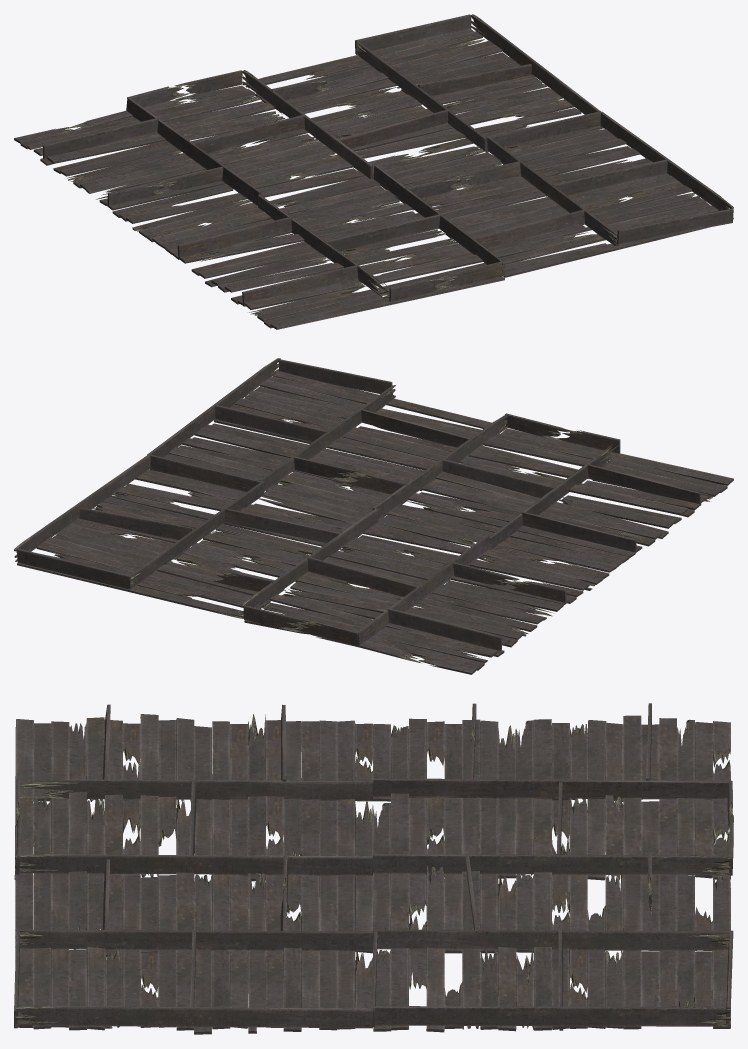
Rendered from Ceiling.fbx.
3 renders of one model, top to bottom at view 1: azimuth 30°, elevation 25°; view 2: azimuth 150°, elevation 25°; view 3: azimuth 270°, elevation 25°, orthographic. The views are drawn at different scales.
Parts seen in each view (by area): view 1: SM_CeilingA400x400_LOD0; view 2: SM_CeilingA400x400_LOD0; view 3: SM_CeilingA400x400_LOD0.
Boxes of the visible parts, <box> form: SM_CeilingA400x400_LOD0: <box>14,14,733,329</box>; SM_CeilingA400x400_LOD0: <box>14,358,733,674</box>; SM_CeilingA400x400_LOD0: <box>14,703,733,1034</box>.
Size of the model in its own units: 407 by 20.56 by 403.
